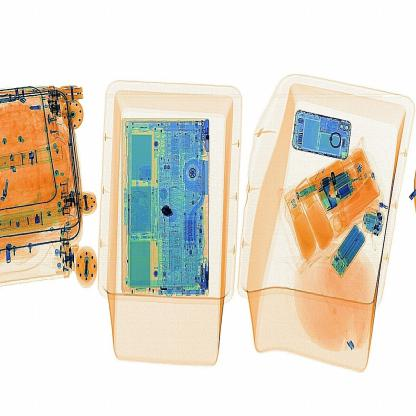knife: (154, 197, 179, 232)
